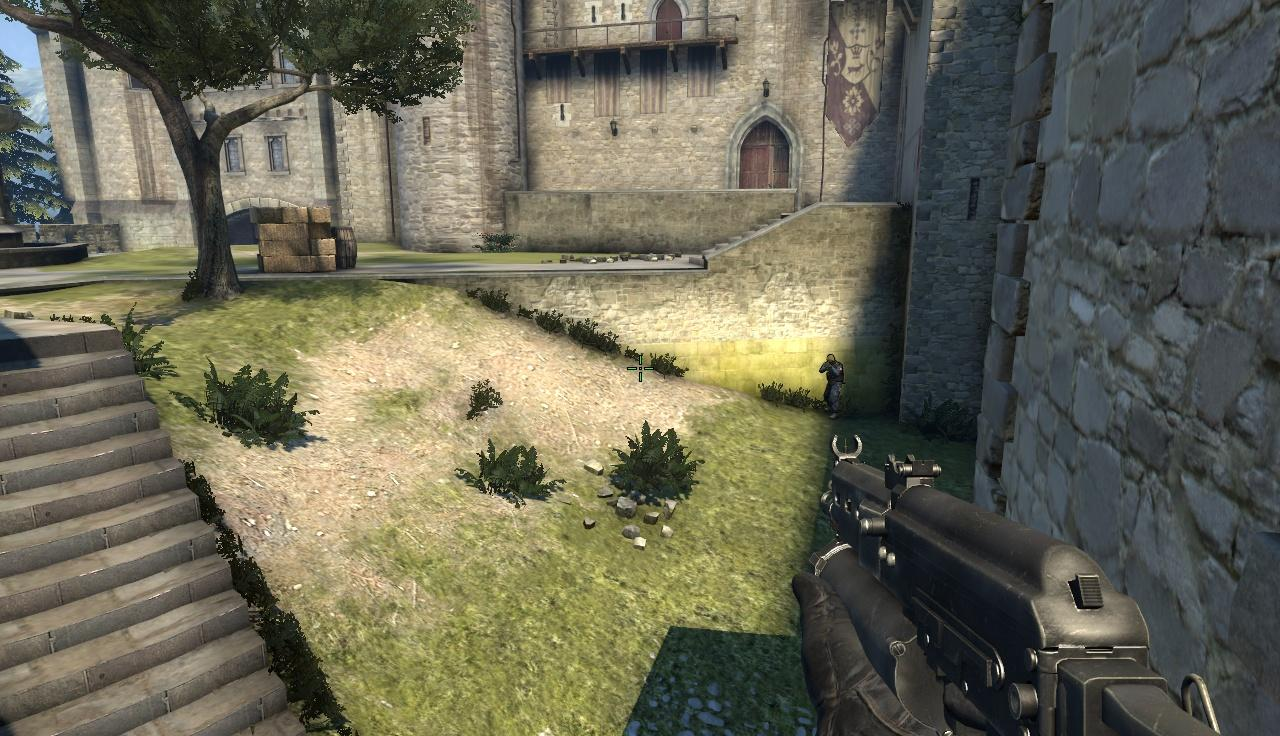ct: (819, 354, 844, 420)
cthead: (826, 354, 836, 365)
rifle: (806, 430, 1233, 731)
